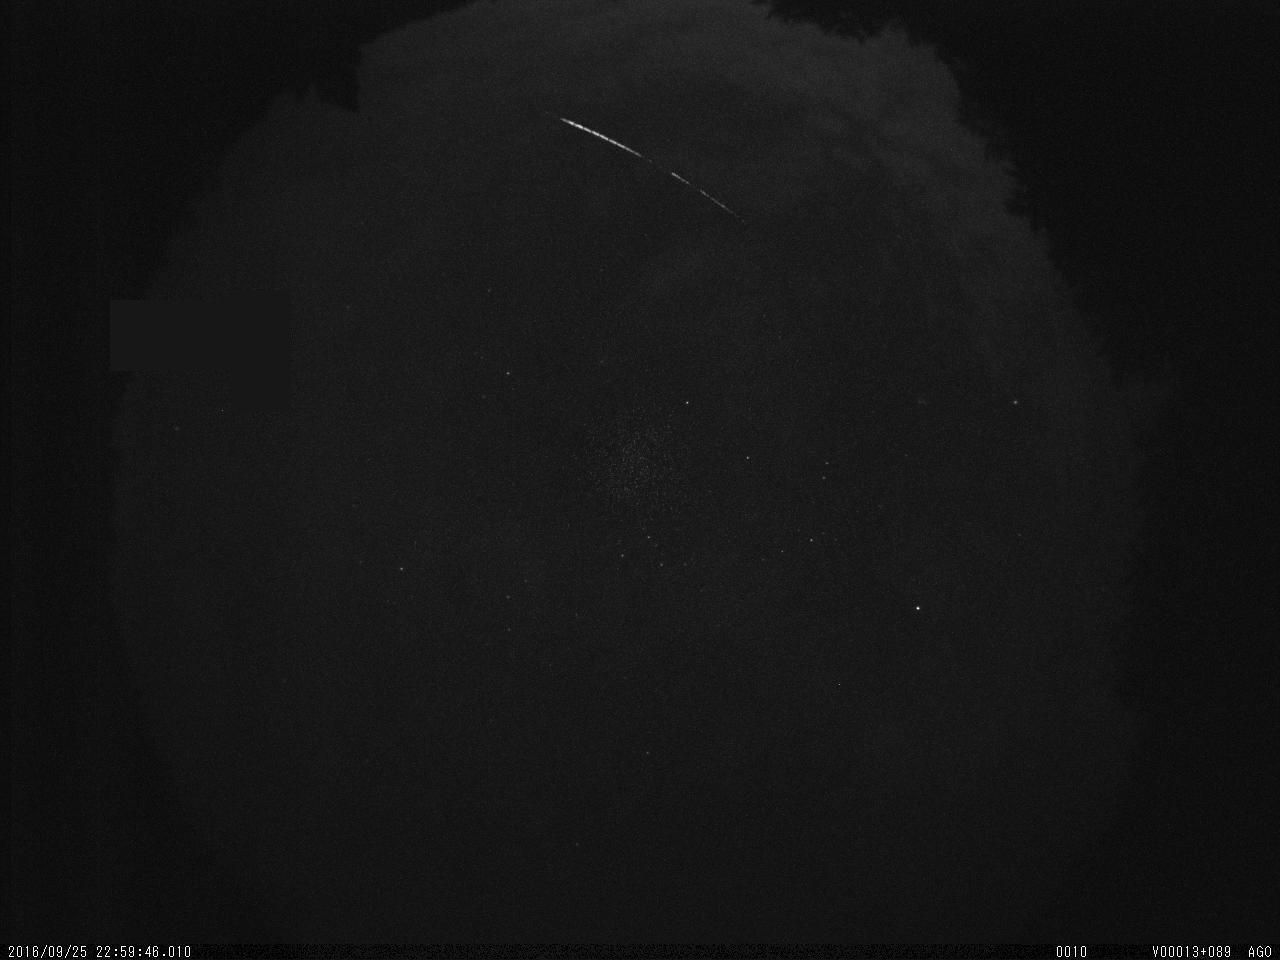meteor: (515, 92, 811, 268)
